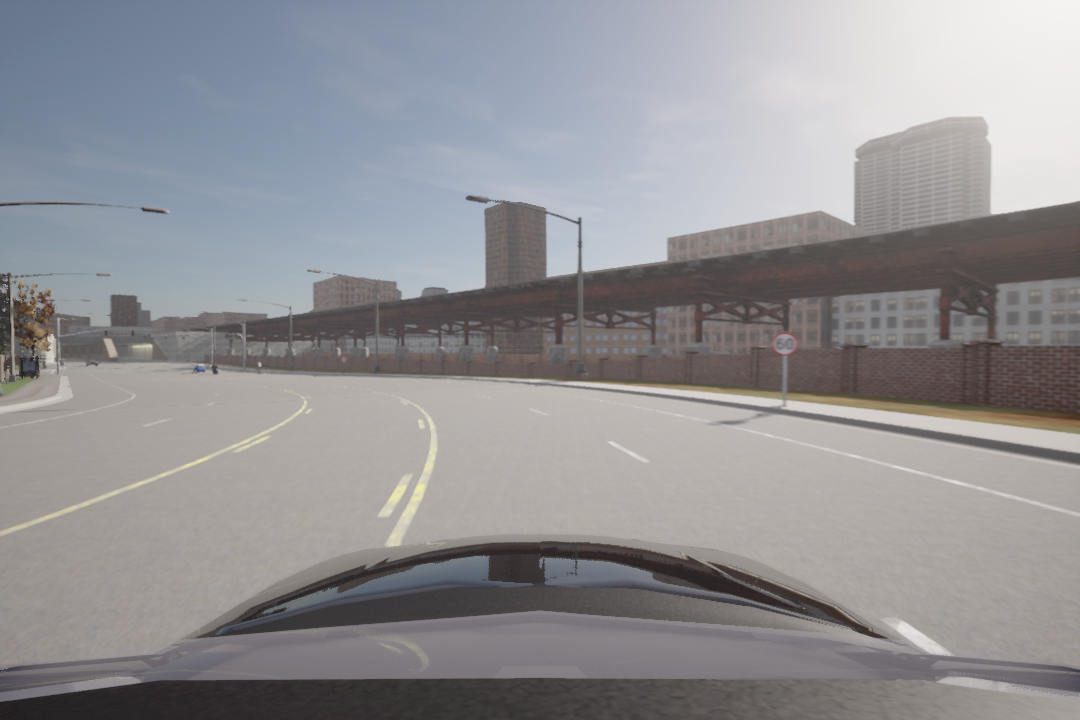TrafficSign_speed: (773, 332, 796, 358)
